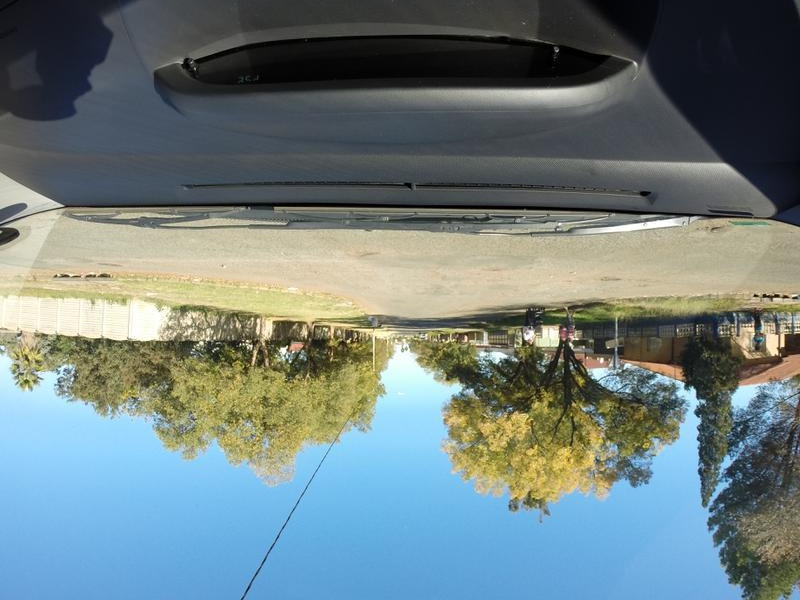pothole: (362, 241, 390, 264), (701, 222, 727, 242), (486, 258, 514, 275), (595, 273, 627, 284)
